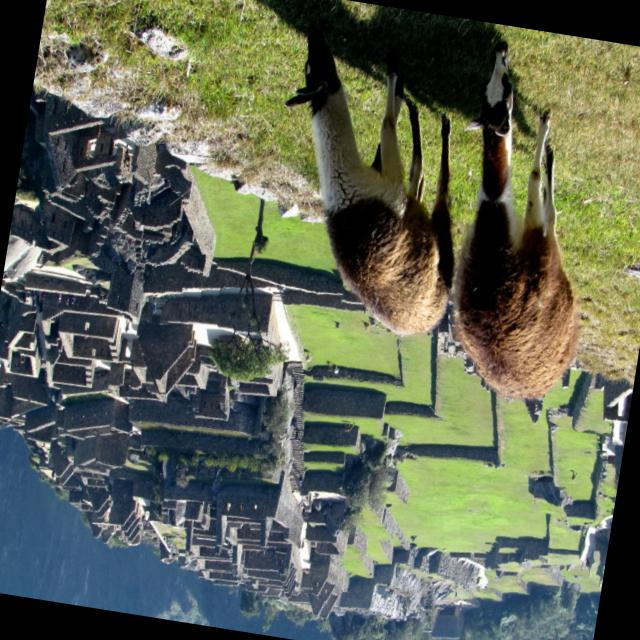alpaca: (252, 28, 488, 343), (434, 42, 619, 408)
